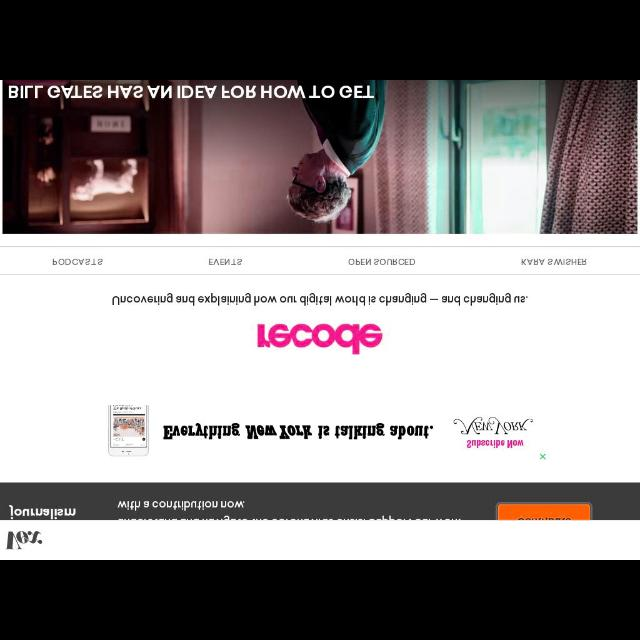backgroundimage: (1, 82, 638, 234)
button: (536, 450, 548, 462)
icon: (539, 452, 547, 460)
iframe: (86, 394, 558, 470), (1, 486, 637, 522)
image: (258, 321, 382, 355), (452, 415, 536, 453), (106, 402, 152, 460), (6, 526, 46, 554)
text: (115, 498, 461, 522), (160, 422, 436, 444), (111, 292, 528, 306), (9, 86, 375, 100), (7, 504, 77, 518), (347, 256, 415, 270), (519, 258, 587, 266), (516, 515, 570, 523), (51, 258, 105, 266), (210, 256, 244, 268)
textbutton: (494, 501, 594, 523)
